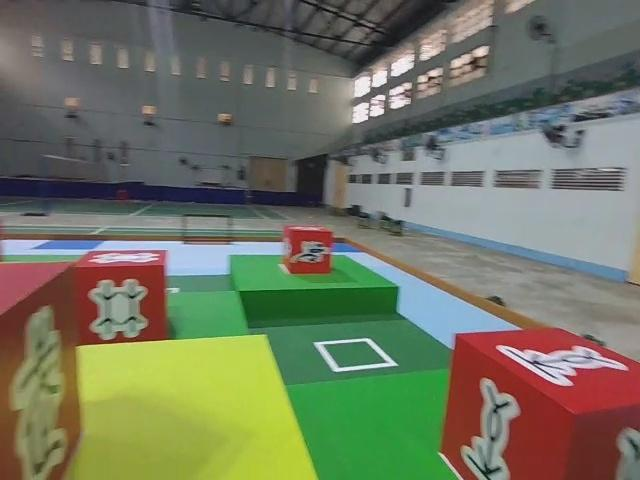R1: (282, 224, 333, 276)
R2 Fake: (0, 257, 82, 480)
R2 Real: (436, 318, 640, 480), (65, 246, 172, 352)
